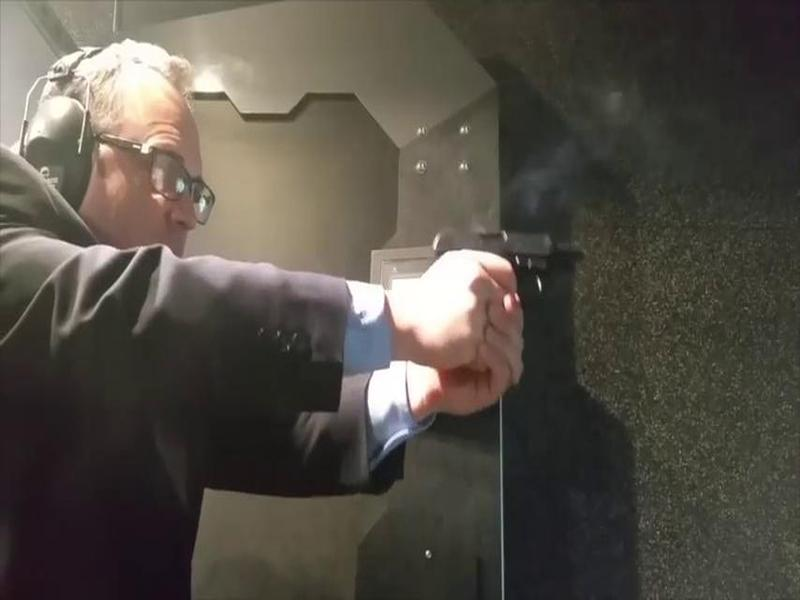Pistola: (418, 222, 594, 316)
